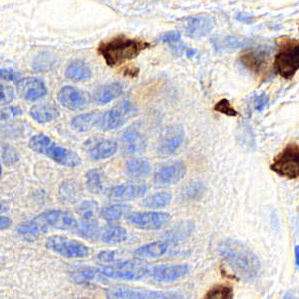Lymphocyte: (97, 34, 151, 67)
